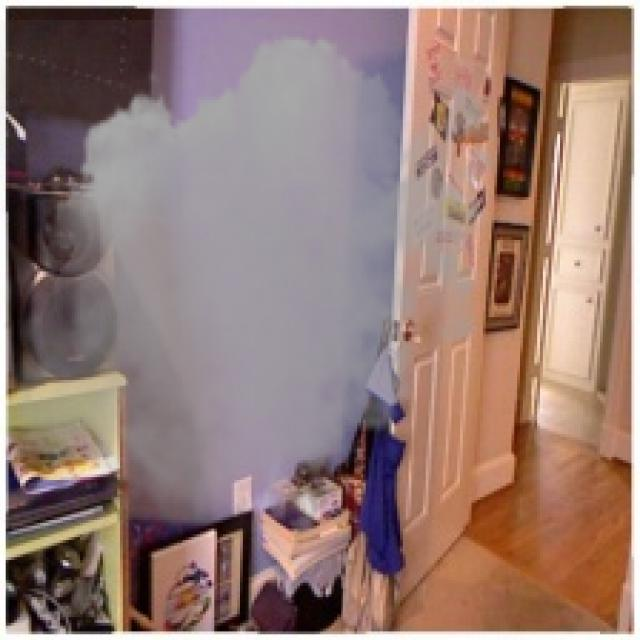smoke: (0, 20, 515, 549)
